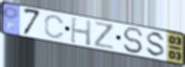7: (22, 7, 43, 37)
C: (44, 14, 66, 40)
H: (70, 16, 93, 48)
S: (122, 26, 144, 55), (144, 31, 167, 58)
Z: (94, 20, 116, 51)
